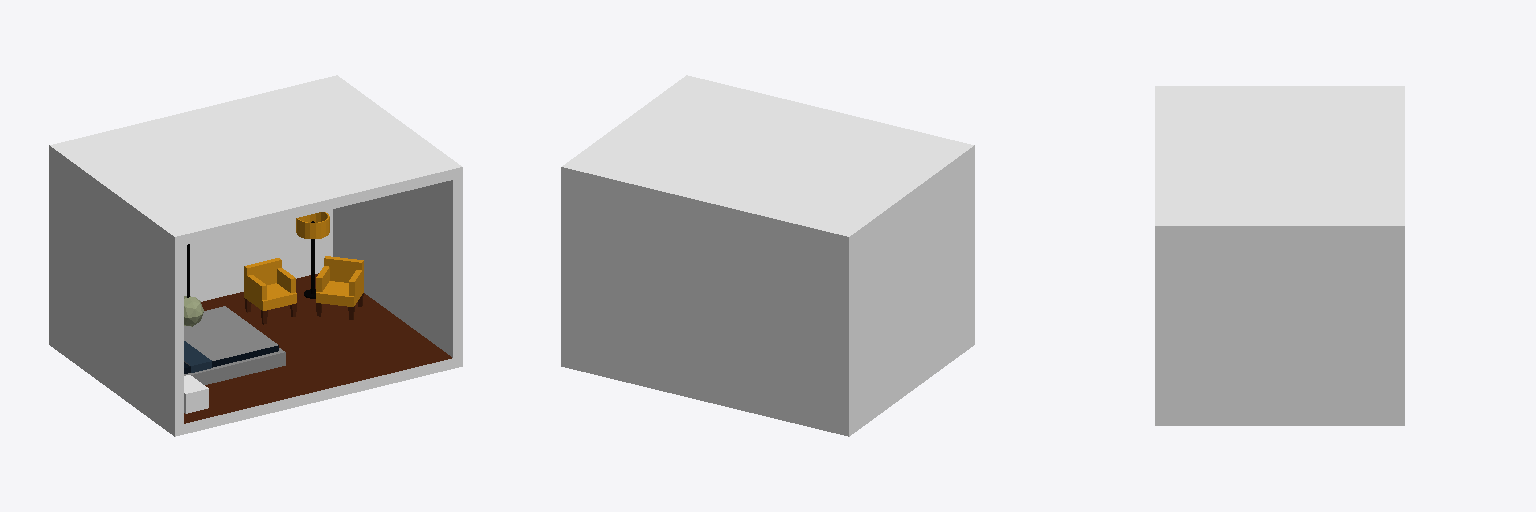
File: Bedroom_1251.obj
The picture shows the model from 3 angles: view 1: azimuth 30°, elevation 25°; view 2: azimuth 150°, elevation 25°; view 3: azimuth 270°, elevation 25°; orthographic projection.
Parts seen in each view (by area): view 1: Box001, Box006; view 2: Box001; view 3: Box001.
Boxes of the visible parts, box(x1,y1,x2,y2) form: Box001: box(49, 75, 462, 436); Box006: box(184, 212, 363, 413); Box001: box(561, 75, 974, 436); Box001: box(1155, 86, 1404, 425).
Bounding box in the file's own units: 94.62 × 62.73 × 71.35.